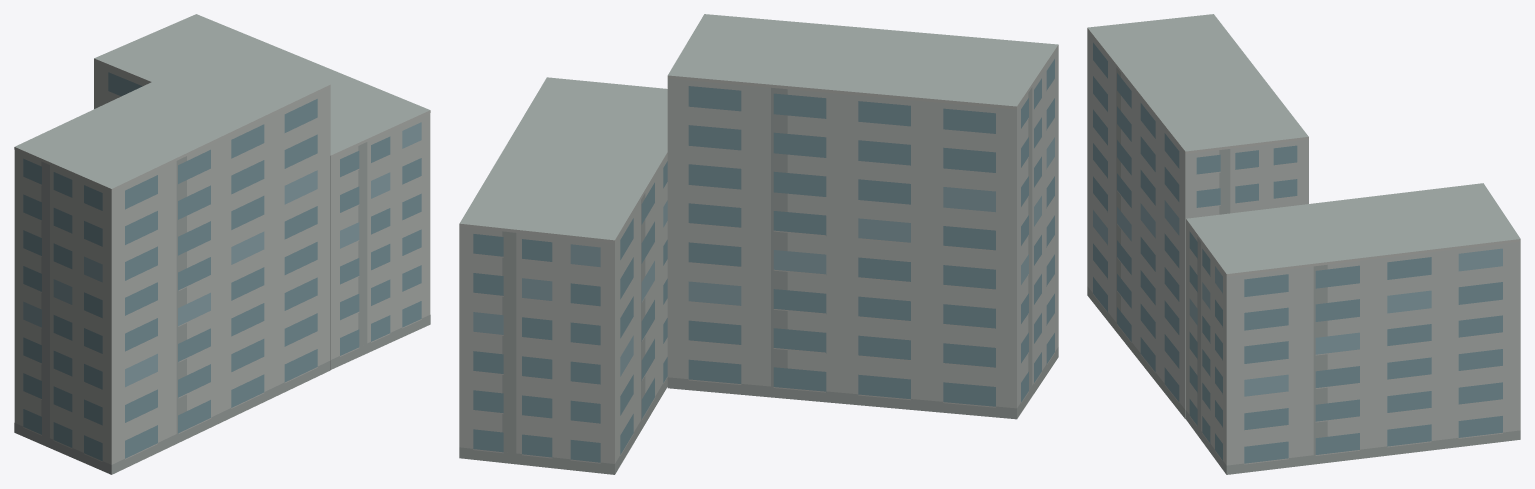
Rendered from residential-19b5bea5-20b3-4194-b462-a91fc4c8919b.glb.
3 views of the same model, side by side, from view 1: azimuth 30°, elevation 25°; view 2: azimuth 150°, elevation 25°; view 3: azimuth 270°, elevation 25° (orthographic). The views are drawn at different scales.
Visible parts, largest first — view 1: residential-19b5bea5-20b3-4194-b462-a91fc4c8919b.tmp; view 2: residential-19b5bea5-20b3-4194-b462-a91fc4c8919b.tmp; view 3: residential-19b5bea5-20b3-4194-b462-a91fc4c8919b.tmp.
Boxes of the visible parts, x1,y1,x2,y2 form: residential-19b5bea5-20b3-4194-b462-a91fc4c8919b.tmp: (14, 14, 430, 474); residential-19b5bea5-20b3-4194-b462-a91fc4c8919b.tmp: (459, 14, 1058, 474); residential-19b5bea5-20b3-4194-b462-a91fc4c8919b.tmp: (1087, 14, 1520, 474).
Bounding box in the file's own units: 37.78 × 24.4 × 35.81.
